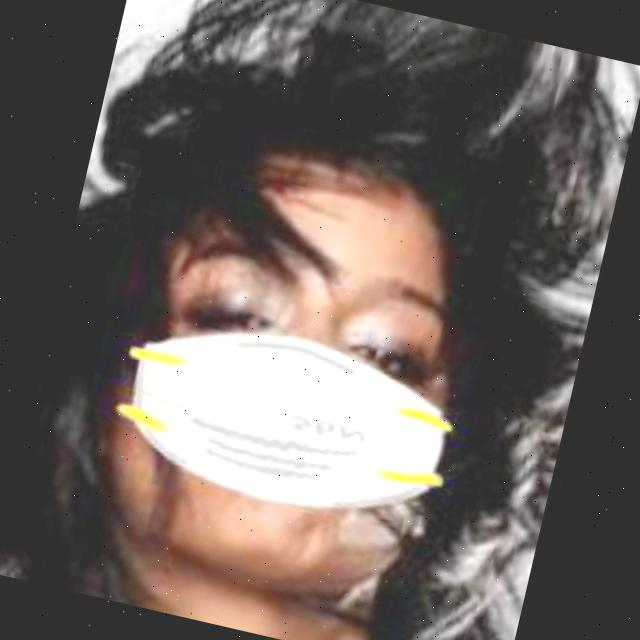suspicion: (83, 99, 517, 618)
